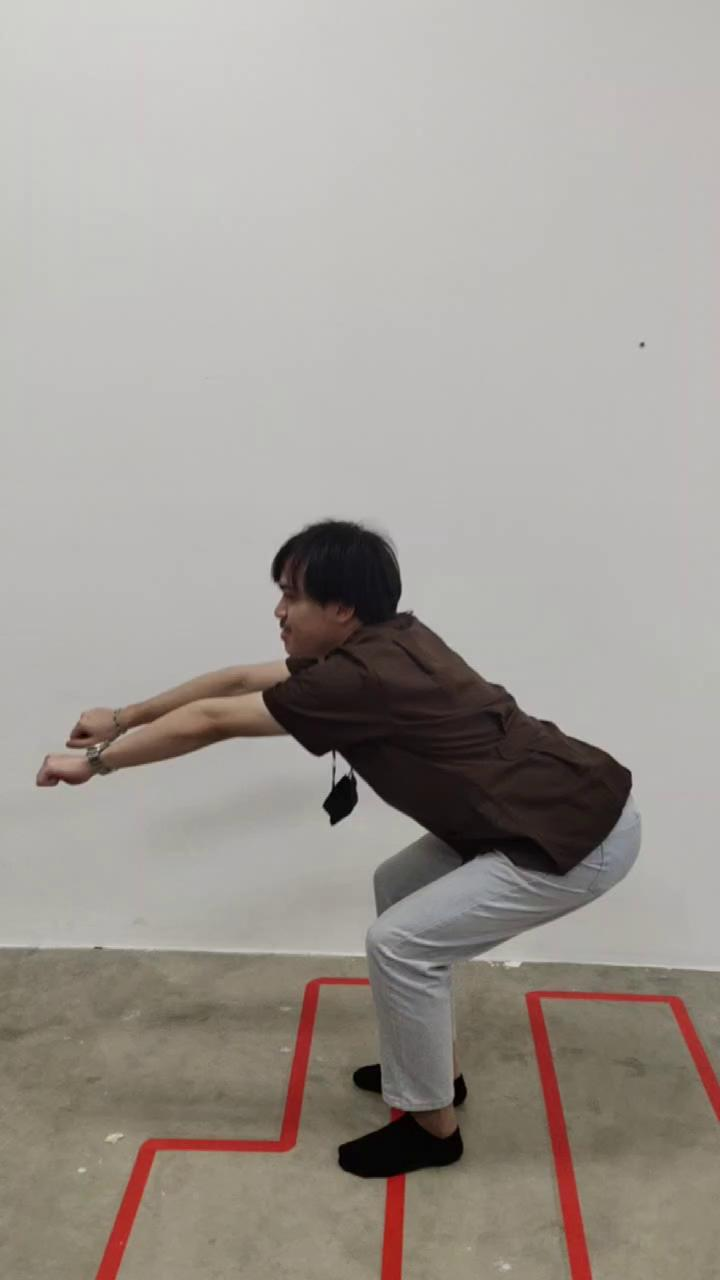squat down: (38, 522, 640, 1178)
